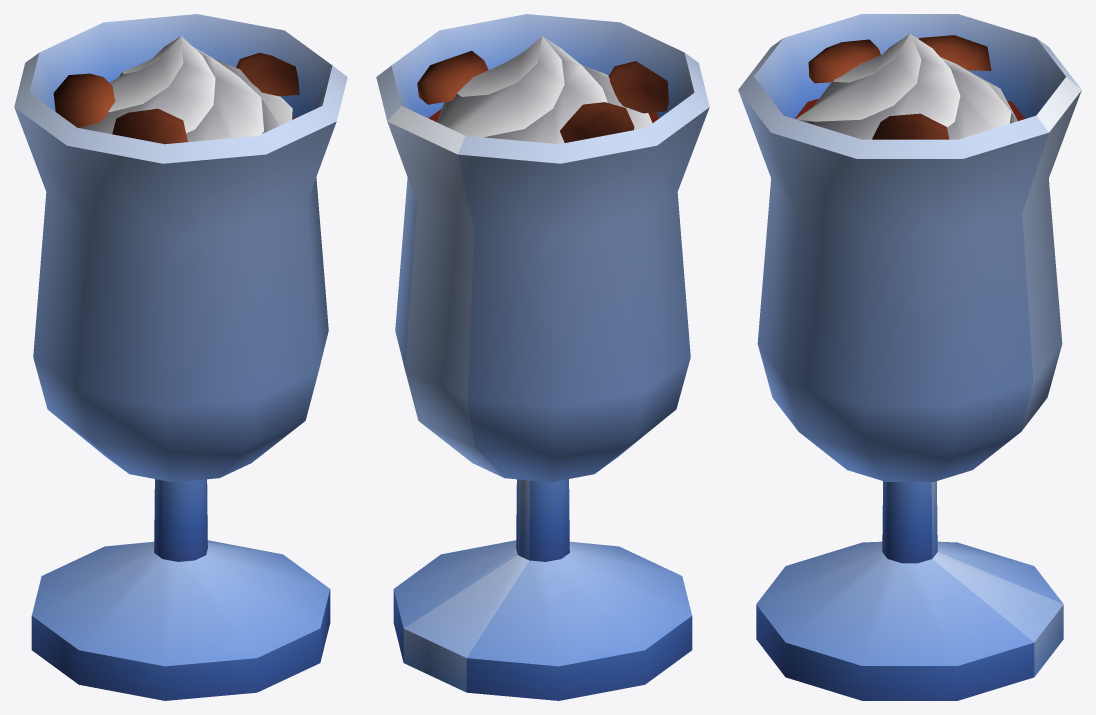
Rendered from m_RumRaisins01.fbx.
3 renders of one model, left to right at view 1: azimuth 30°, elevation 25°; view 2: azimuth 150°, elevation 25°; view 3: azimuth 270°, elevation 25°, orthographic.
Parts seen in each view (by area): view 1: m_RumRaisins01; view 2: m_RumRaisins01; view 3: m_RumRaisins01.
Boxes of the visible parts, x1,y1,x2,y2 form: m_RumRaisins01: [14, 14, 347, 700]; m_RumRaisins01: [376, 14, 709, 700]; m_RumRaisins01: [738, 14, 1081, 700].
Size of the model in its own units: 8.5 by 17.38 by 8.94.
